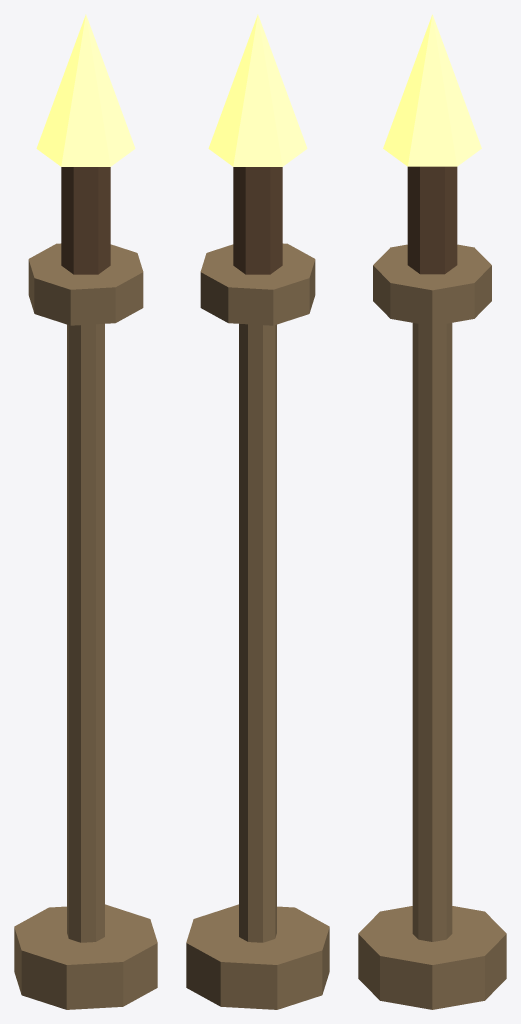
The model's file is torch.fbx.
The picture shows the model from 3 angles, left to right: view 1: azimuth 30°, elevation 25°; view 2: azimuth 150°, elevation 25°; view 3: azimuth 270°, elevation 25°; orthographic projection.
Visible parts, largest first — view 1: TorchPole, TorchBase, TorchFlame, TorchBowl, TorchWood; view 2: TorchPole, TorchBase, TorchFlame, TorchBowl, TorchWood; view 3: TorchPole, TorchBase, TorchFlame, TorchBowl, TorchWood.
Part boxes in pixels (x1,y1,x2,y2): TorchPole: (67,324,104,942); TorchBase: (14,904,157,1009); TorchFlame: (36,14,135,166); TorchBowl: (28,243,143,325); TorchWood: (61,167,110,274); TorchPole: (239,324,276,942); TorchBase: (186,904,329,1009); TorchFlame: (208,14,307,166); TorchBowl: (200,243,315,325); TorchWood: (233,167,282,274); TorchPole: (412,323,452,941); TorchBase: (358,906,506,1009); TorchFlame: (383,14,481,166); TorchBowl: (373,244,491,326); TorchWood: (407,166,457,274).
Size of the model in its own units: 0.3 by 0.3 by 2.15.
